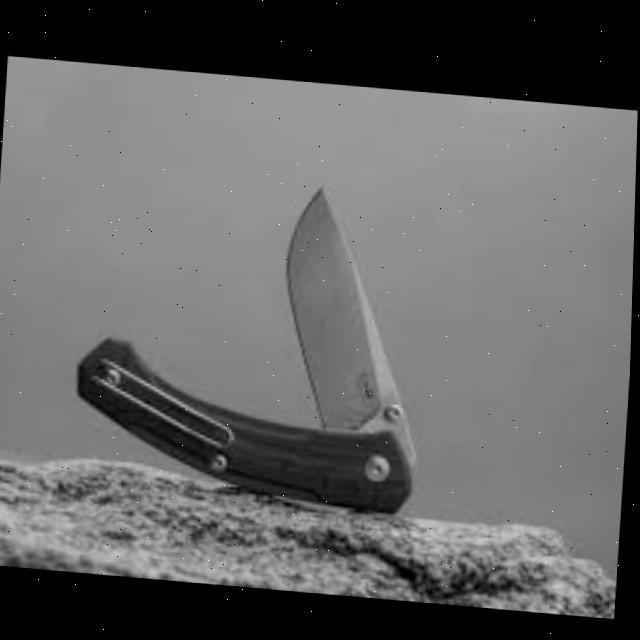Knife: (71, 159, 436, 510), (277, 174, 436, 458)
